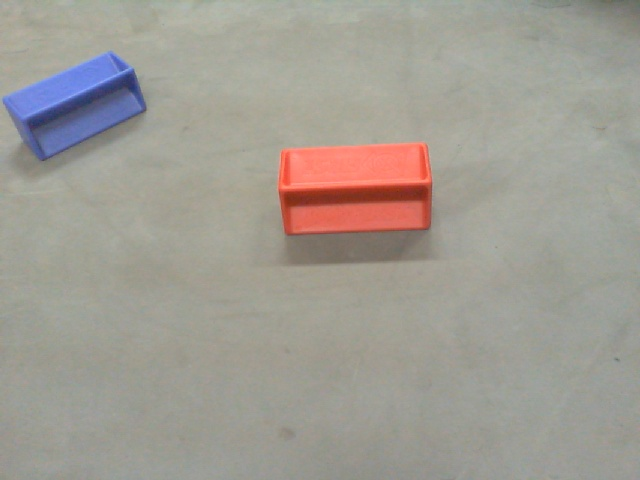BlueSample: (1, 47, 152, 162)
RedSample: (268, 136, 438, 234)
